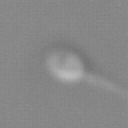normal: (85, 69, 128, 101)
